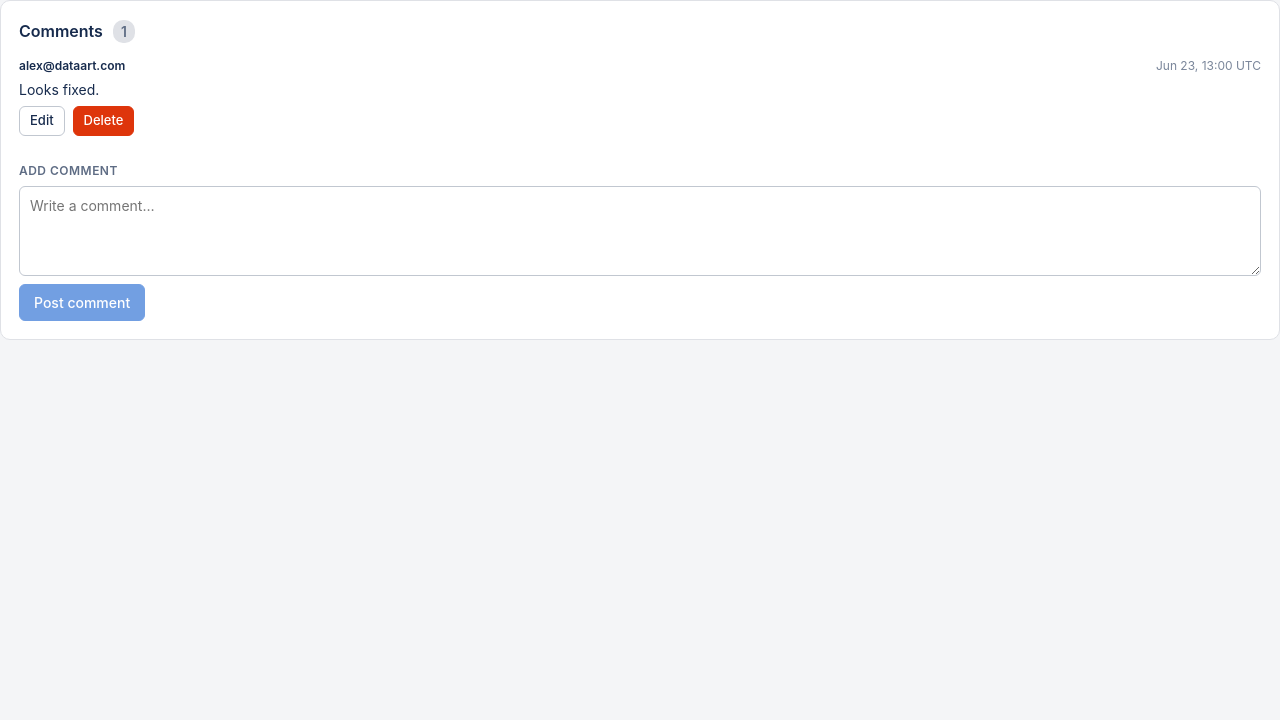
Test: CommentsPanel edit/delete (acceptance) › surfaces a server 400 on edit as a toast and stays in edit mode
Check: the text "Looks fixed." is shown, box [19,81,99,98]
Click the button "Edit" at (42, 121), box [19,106,65,136]
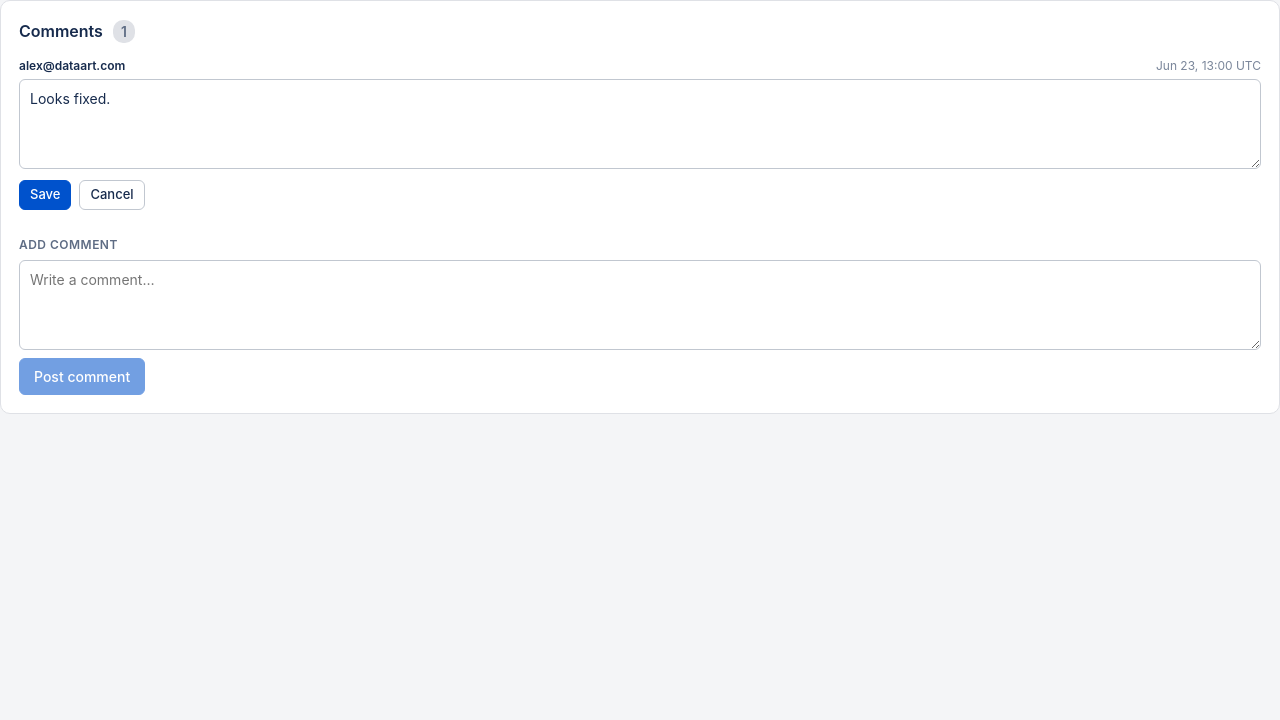
Replace the text in the text box named "Edit comment" with "x" at (640, 124), box [19,79,1261,169]
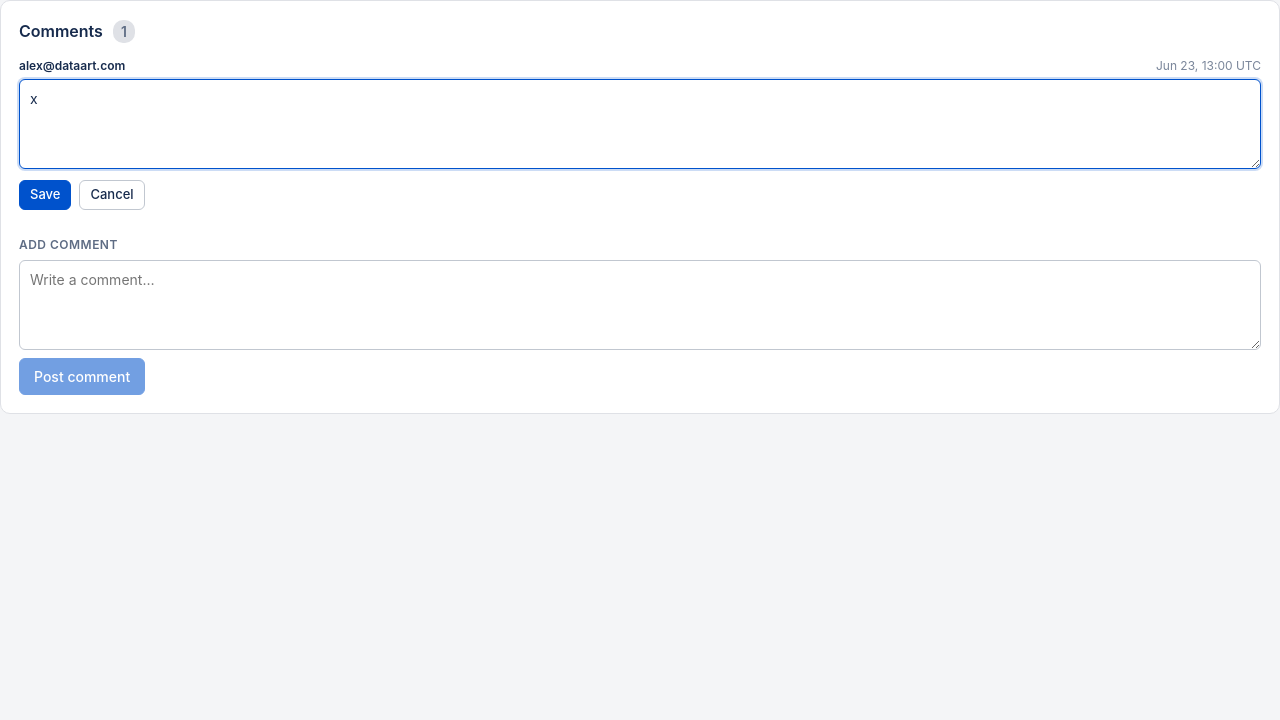
Click the button "Save" at (45, 195), box [19,180,71,210]
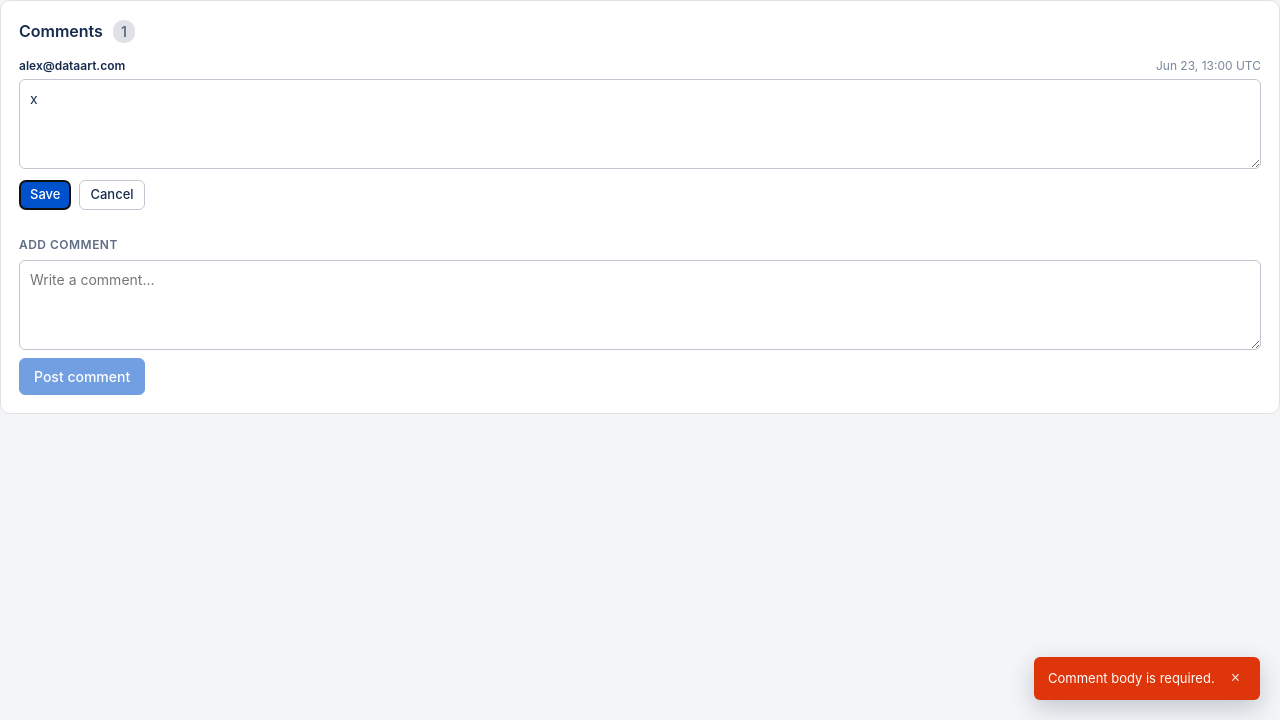
Check: the message shows "required", box [1048,670,1215,686]
